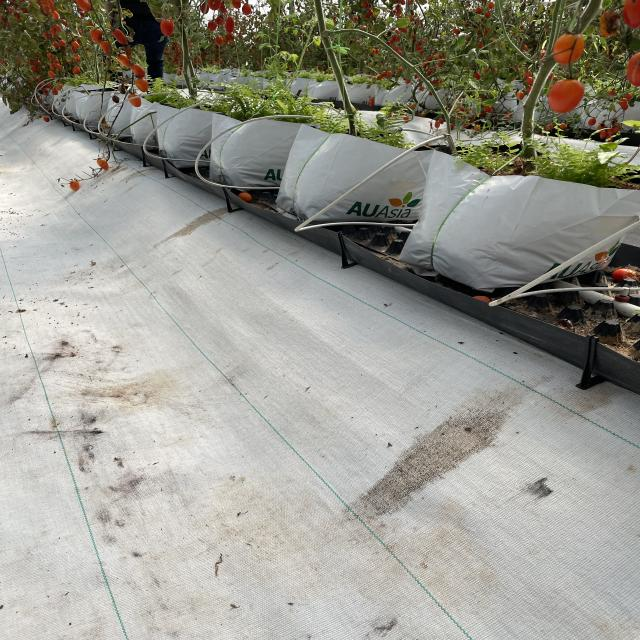Soilbag: (393, 153, 640, 293), (256, 122, 436, 226)
